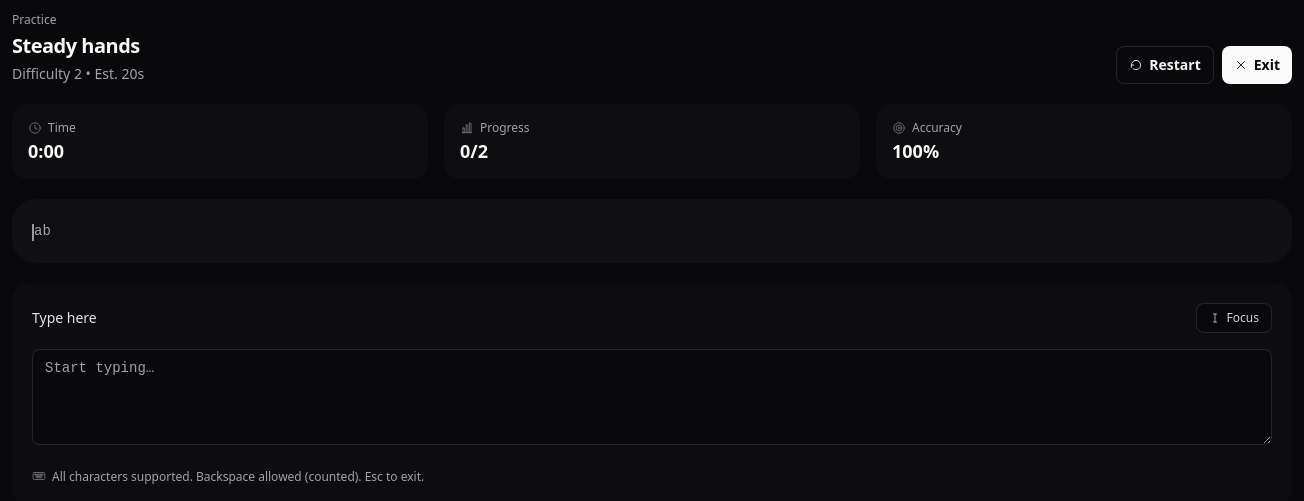
Test: TypingSession › does not treat a blocked run write as a saved finish
Press a in the text box named "Typing input", box [32,348,1272,444]
Type "a" into the text box named "Typing input". click: (652, 396)
box: [32,348,1272,444]
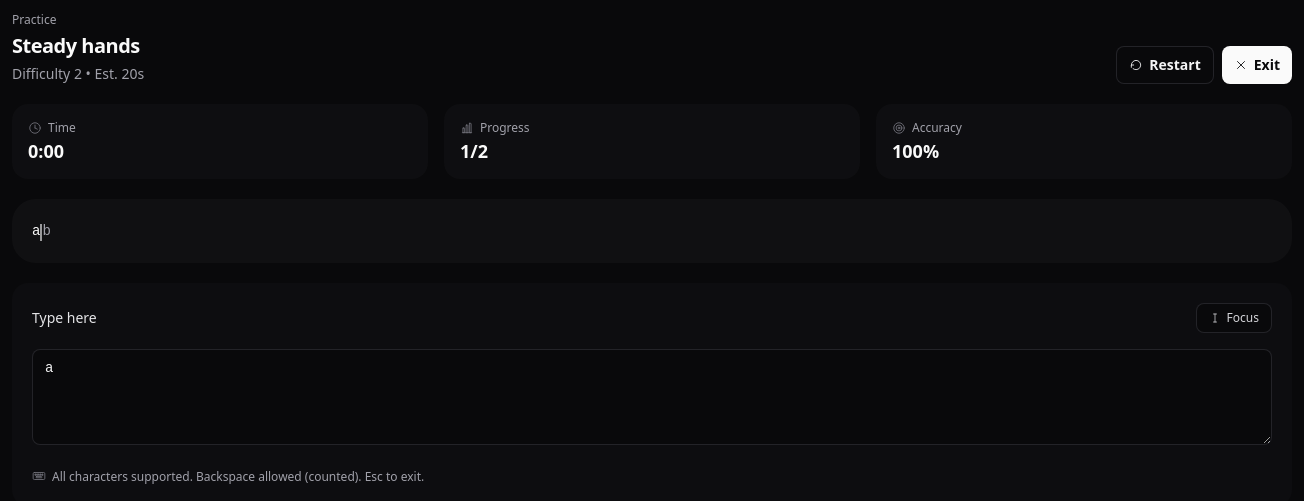
Press b in the text box named "Typing input", box [32,348,1272,444]
Replace the text in the text box named "Typing input" with "ab". click: (652, 396)
box: [32,348,1272,444]
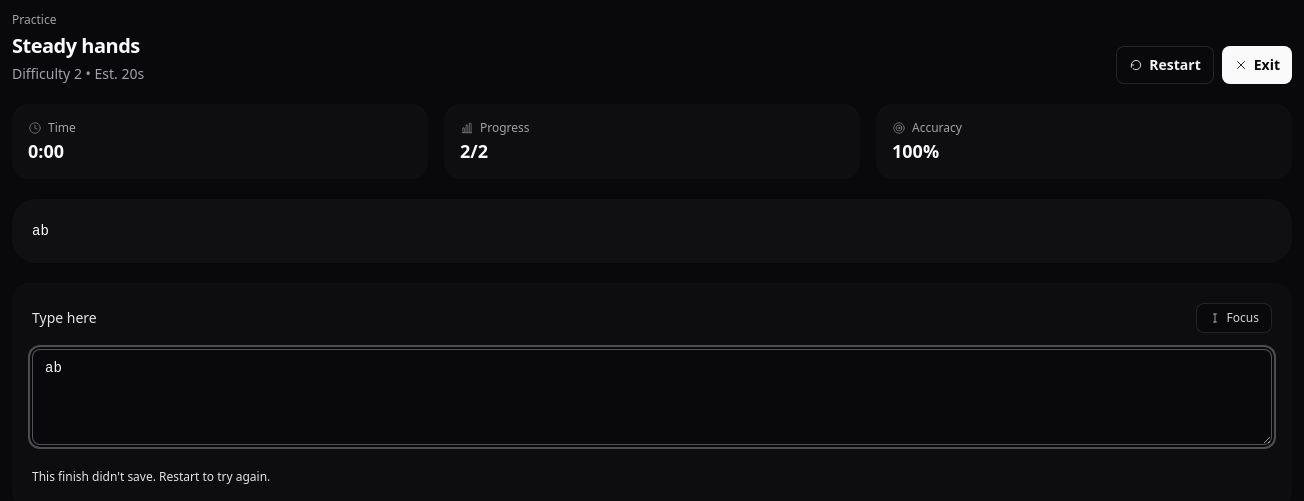
Expected: the button "Restart" is shown, [1116,46,1214,84]
Expected: the text "This finish didn't save. Restart to try again." is shown, [32,468,270,484]
